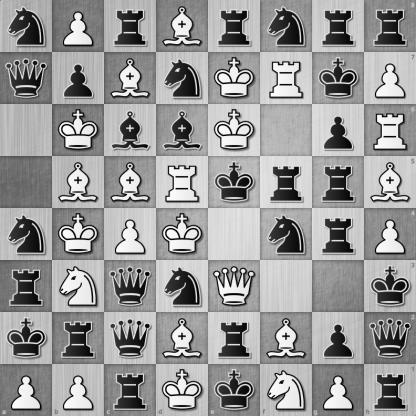B: (364, 156, 416, 209), (53, 157, 104, 208), (105, 53, 156, 104), (105, 157, 156, 208), (157, 1, 208, 52), (157, 313, 208, 364), (261, 313, 312, 364)
K: (156, 364, 209, 416), (53, 105, 104, 156), (53, 209, 104, 260), (157, 209, 208, 260), (209, 53, 260, 104), (209, 105, 260, 156)
N: (260, 364, 312, 416), (53, 261, 104, 312)
P: (0, 364, 52, 416), (52, 364, 104, 416), (312, 364, 364, 416), (364, 52, 416, 104), (364, 209, 416, 260), (53, 1, 104, 52), (105, 209, 156, 260)
Q: (209, 261, 260, 312)
R: (364, 104, 416, 156), (157, 157, 208, 208), (261, 53, 312, 104)
b: (105, 105, 156, 156), (157, 105, 208, 156)
board: (0, 0, 415, 415)
k: (364, 260, 416, 312), (209, 364, 260, 416), (1, 313, 52, 364), (209, 157, 260, 208), (313, 53, 364, 104)
n: (1, 1, 52, 52), (1, 209, 52, 260), (157, 53, 208, 104), (157, 261, 208, 312), (261, 1, 312, 52), (261, 209, 312, 260)
p: (53, 53, 104, 104), (313, 105, 364, 156), (313, 313, 364, 364)
q: (364, 312, 416, 364), (1, 53, 52, 104), (105, 261, 156, 312), (105, 313, 156, 364)
r: (104, 364, 156, 416), (364, 0, 416, 52), (364, 364, 416, 416), (1, 261, 52, 312), (53, 313, 104, 364), (105, 1, 156, 52), (209, 1, 260, 52), (209, 313, 260, 364), (261, 157, 312, 208), (313, 1, 364, 52), (313, 157, 364, 208), (313, 209, 364, 260)
